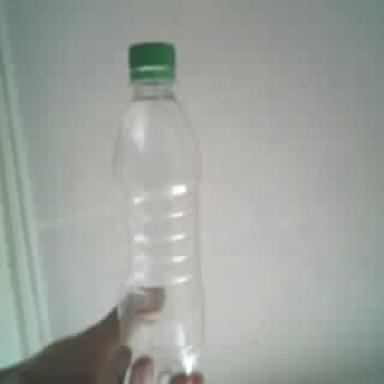bottle: (115, 43, 203, 382)
